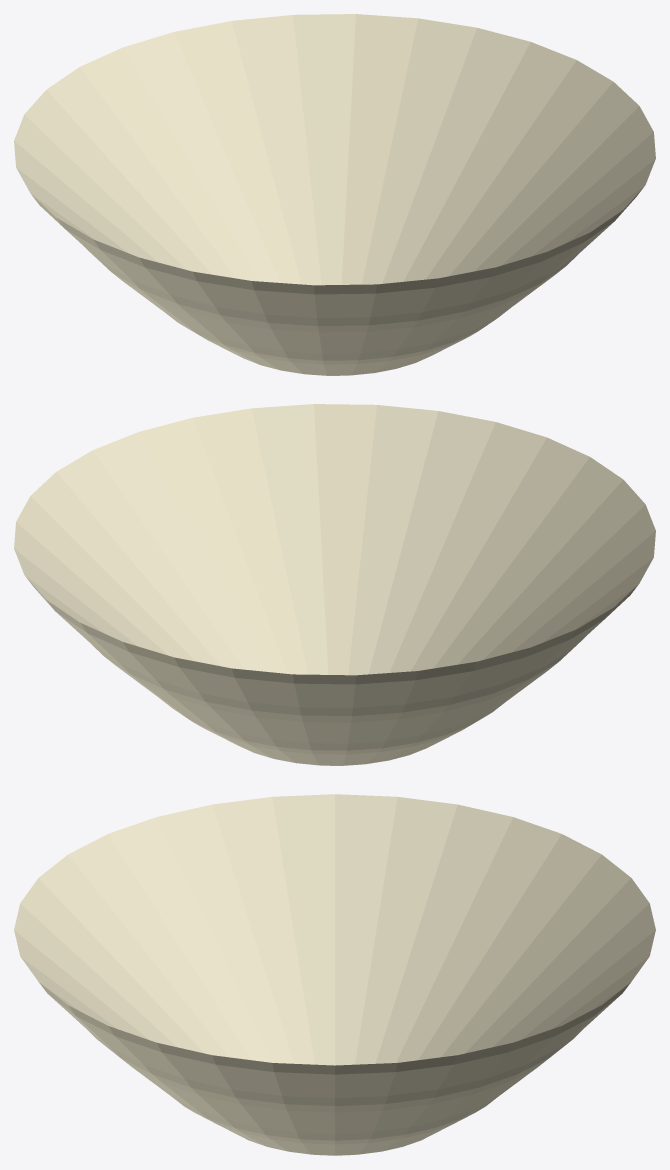
The model's file is bowl.fbx.
3 views of the same model, one above another, from view 1: azimuth 30°, elevation 25°; view 2: azimuth 150°, elevation 25°; view 3: azimuth 270°, elevation 25° (orthographic).
Visible parts, largest first — view 1: bowl; view 2: bowl; view 3: bowl.
Part boxes in pixels (<box>): bowl: <box>14,14,655,375</box>; bowl: <box>14,404,655,765</box>; bowl: <box>14,794,655,1155</box>.
Bounding box in the file's own units: 635 × 204 × 635.
